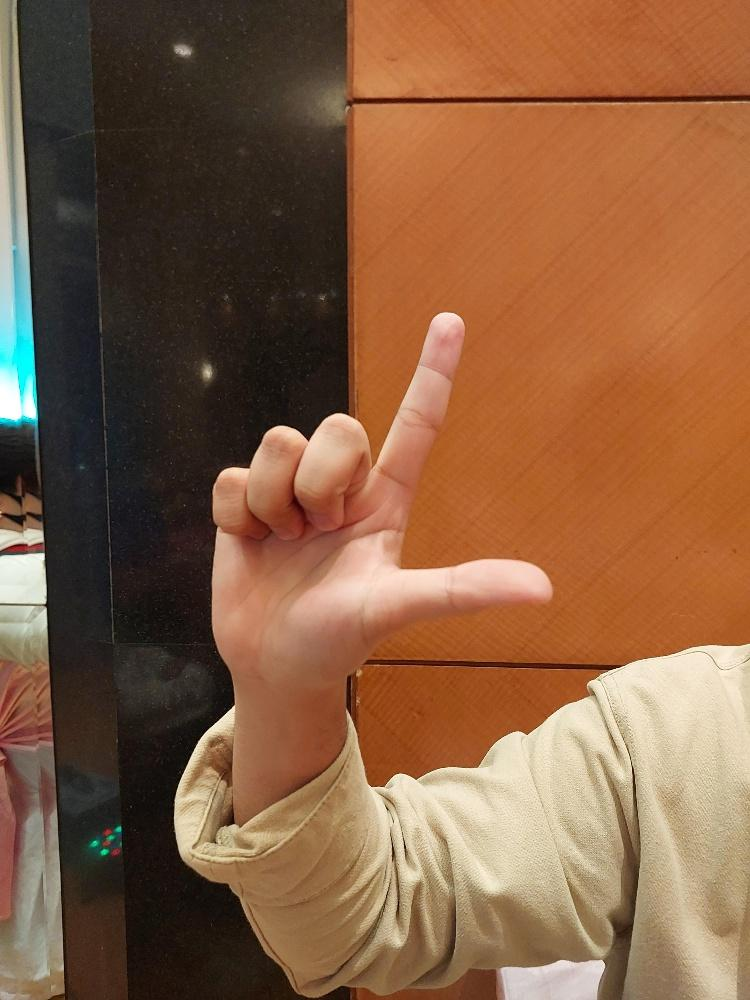l: (209, 308, 555, 676)
